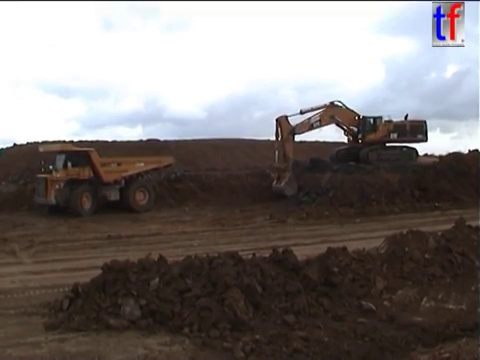excavator: (269, 98, 430, 198)
truck: (32, 140, 176, 217)
